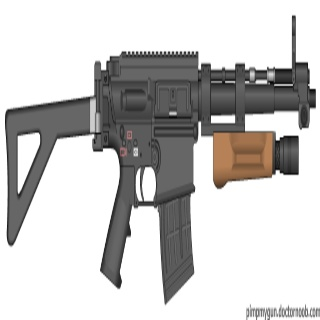rifle: (2, 14, 318, 304)
